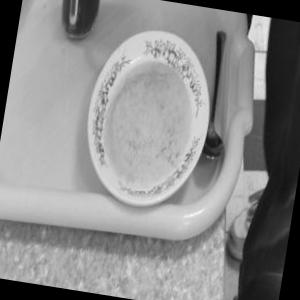coffee: (46, 0, 105, 52)
porridge: (69, 34, 229, 210)
